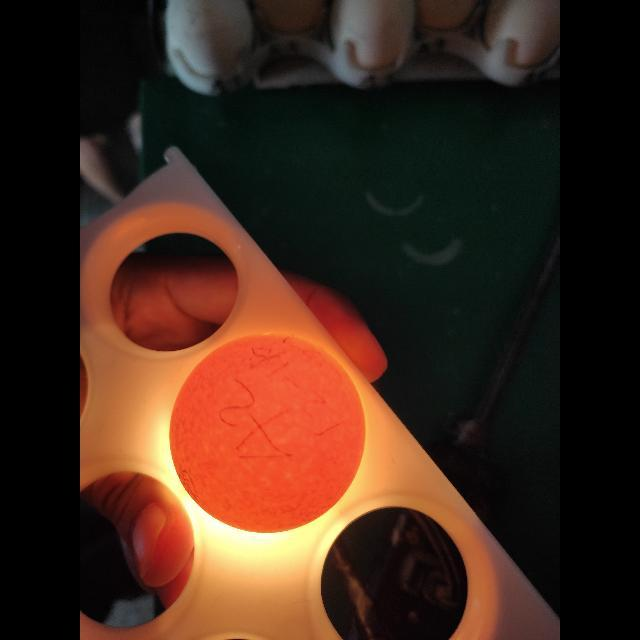A - Good: (166, 329, 372, 537)
